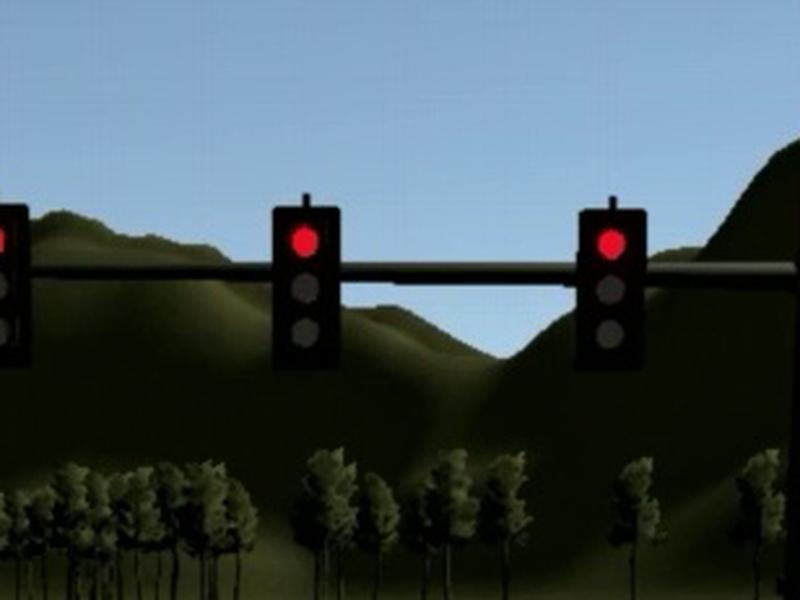Red: (268, 205, 344, 368), (575, 209, 649, 362), (1, 202, 30, 363)
